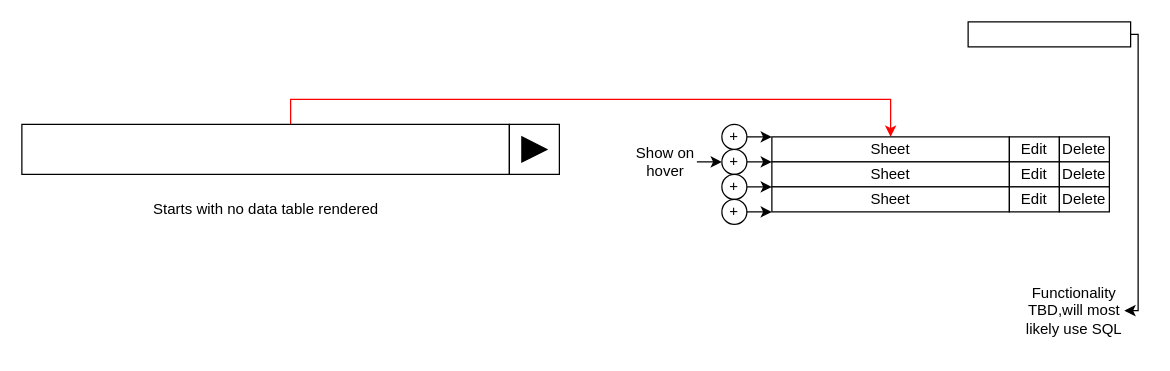
Image size: 1170x371. Some labels were removed from this diagram. Each missing label, with the centre of its shape:
"Search" belongs at pixel 1049 34.
"Sheet Selection" belongs at pixel 265 148.
